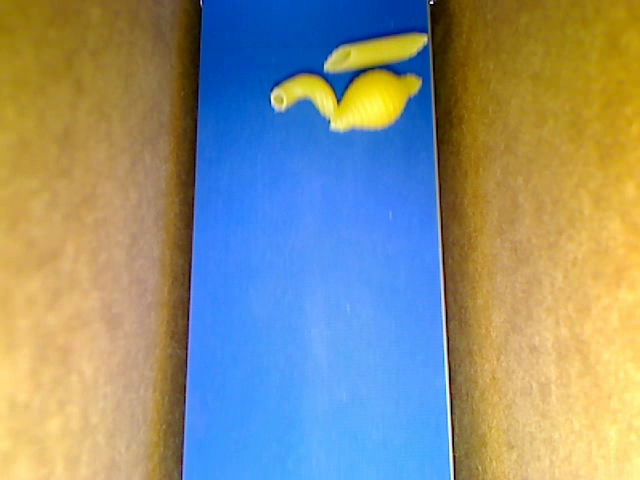elbow: (270, 72, 338, 120)
penne: (323, 31, 429, 74)
shell: (328, 69, 422, 133)
